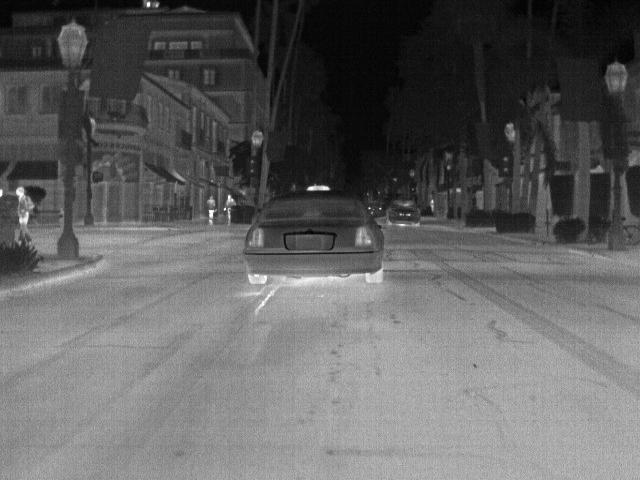car: (243, 186, 386, 286), (387, 195, 422, 227), (369, 202, 387, 218)
person: (15, 184, 34, 243), (225, 192, 237, 225), (207, 193, 218, 225)
